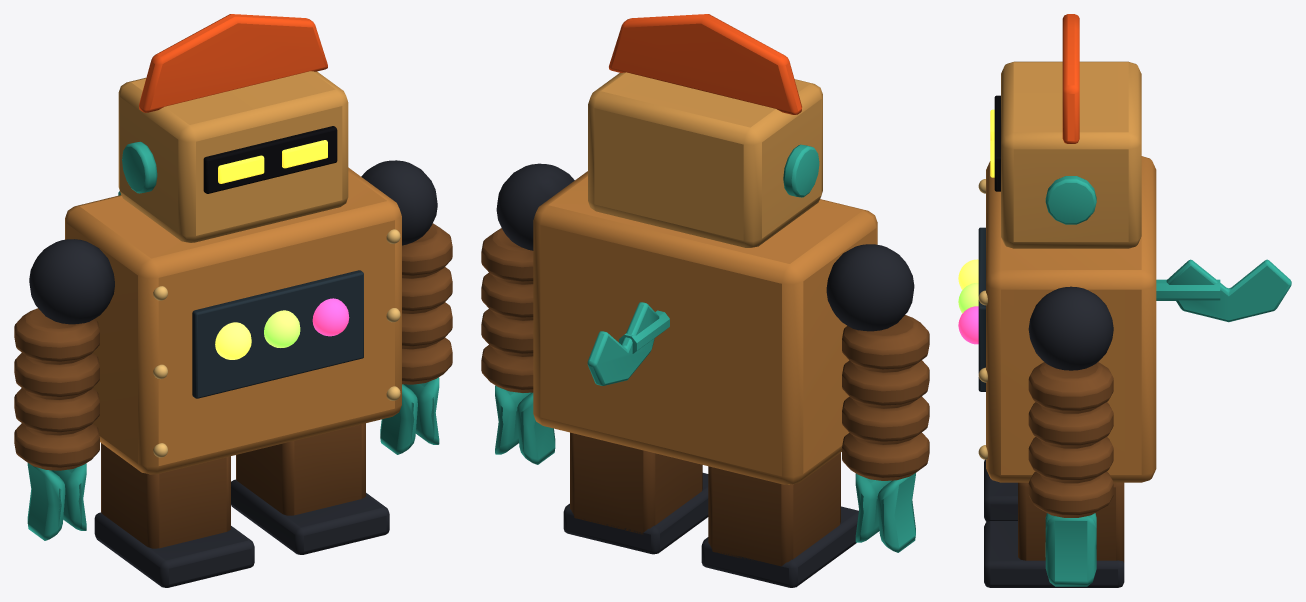
The model's file is alien_brute.glb.
The picture shows the model from 3 angles, left to right: view 1: azimuth 30°, elevation 25°; view 2: azimuth 150°, elevation 25°; view 3: azimuth 270°, elevation 25°; orthographic projection. The views are drawn at different scales.
Visible parts, largest first — view 1: body, head, panel, crest, leg, leg.001, foot, shoulder, foot.001, visor, shoulder.001, arm_ring (+17 smaller); view 2: body, head, crest, leg, leg.001, shoulder, foot, shoulder.001, foot.001, arm_ring, arm_ring.002, arm_ring.001 (+12 smaller); view 3: body, head, shoulder.001, key_wings, foot.001, leg.001, arm_ring.004, claw.003, arm_ring.005, arm_ring.006, arm_ring.007, crest (+8 smaller).
Boxes of the visible parts, <box> form: body: <box>65,167,401,474</box>; head: <box>118,71,348,242</box>; panel: <box>192,270,363,398</box>; crest: <box>139,14,327,112</box>; leg: <box>101,443,230,548</box>; leg.001: <box>236,423,365,515</box>; foot: <box>94,512,254,587</box>; shoulder: <box>29,239,114,324</box>; foot.001: <box>231,479,389,554</box>; visor: <box>203,126,337,193</box>; shoulder.001: <box>361,160,437,245</box>; arm_ring: <box>14,308,99,364</box>; body: <box>533,171,877,484</box>; head: <box>588,72,822,247</box>; crest: <box>609,14,801,114</box>; leg: <box>708,453,840,566</box>; leg.001: <box>570,432,702,534</box>; shoulder: <box>826,244,914,331</box>; foot: <box>701,506,858,587</box>; shoulder.001: <box>496,163,574,250</box>; foot.001: <box>563,473,708,554</box>; arm_ring: <box>842,315,929,372</box>; arm_ring.002: <box>842,396,929,444</box>; arm_ring.001: <box>842,360,929,408</box>; body: <box>986,156,1156,482</box>; head: <box>1001,61,1141,248</box>; shoulder.001: <box>1028,286,1113,370</box>; key_wings: <box>1166,259,1291,322</box>; foot.001: <box>984,521,1124,587</box>; leg.001: <box>1018,482,1124,562</box>; arm_ring.004: <box>1028,362,1113,413</box>; claw.003: <box>1045,516,1096,586</box>; arm_ring.005: <box>1028,402,1113,448</box>; arm_ring.006: <box>1028,437,1113,483</box>; arm_ring.007: <box>1028,471,1113,517</box>; crest: <box>1062,14,1079,143</box>.
Bounding box in the file's own units: 2.27 × 2.63 × 1.56.
